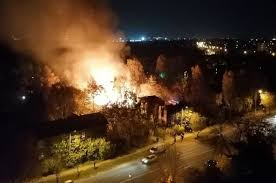fire: (66, 43, 166, 115)
